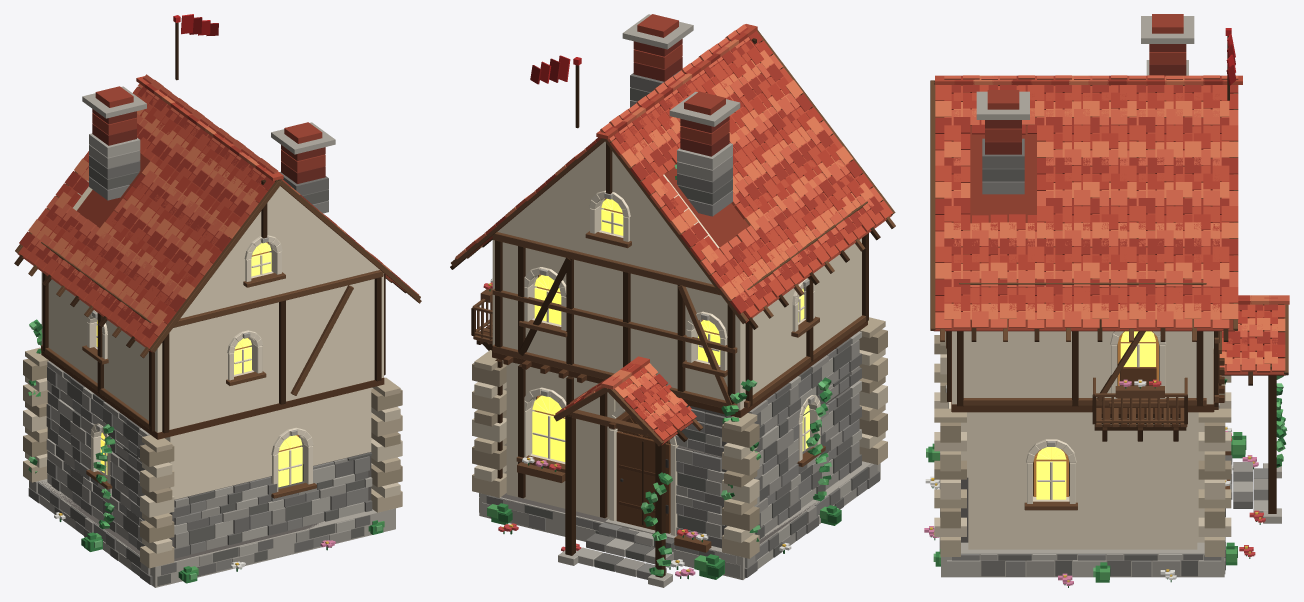
File: vn_building_reference_cottage.glb
The picture shows the model from 3 angles, left to right: view 1: azimuth 30°, elevation 25°; view 2: azimuth 150°, elevation 25°; view 3: azimuth 270°, elevation 25°; orthographic projection. The views are drawn at different scales.
Parts seen in each view (by area): view 1: structure_walls, roof_tiles, chimneys, structure_timber, windows, roof_timber, vegetation, decorations; view 2: structure_walls, roof_tiles, structure_timber, windows, chimneys, doors, vegetation, roof_timber, decorations, balcony; view 3: roof_tiles, structure_walls, chimneys, structure_timber, balcony, windows, vegetation, roof_timber, doors, decorations.
Part boxes in pixels (<box>): structure_walls: <box>23,180,402,587</box>; roof_tiles: <box>17,74,418,352</box>; chimneys: <box>82,86,335,213</box>; structure_timber: <box>41,179,385,433</box>; windows: <box>82,235,316,498</box>; roof_timber: <box>14,86,421,358</box>; vegetation: <box>28,319,384,583</box>; decorations: <box>173,14,218,80</box>; structure_walls: <box>472,141,887,579</box>; roof_tiles: <box>455,24,892,445</box>; structure_timber: <box>492,38,868,577</box>; windows: <box>516,190,825,472</box>; chimneys: <box>622,14,740,216</box>; doors: <box>558,406,678,587</box>; vegetation: <box>483,164,841,579</box>; roof_timber: <box>450,30,895,446</box>; decorations: <box>480,55,711,552</box>; balcony: <box>471,298,492,350</box>; roof_tiles: <box>933,75,1289,375</box>; structure_walls: <box>934,331,1231,577</box>; chimneys: <box>976,14,1194,194</box>; structure_timber: <box>946,282,1276,513</box>; balcony: <box>1092,331,1187,441</box>; windows: <box>945,331,1221,510</box>; vegetation: <box>924,375,1287,587</box>; roof_timber: <box>930,80,1288,385</box>; doors: <box>1225,455,1281,523</box>; decorations: <box>1115,28,1236,489</box>.
Size of the model in its own units: 5.39 by 8.02 by 5.34.
